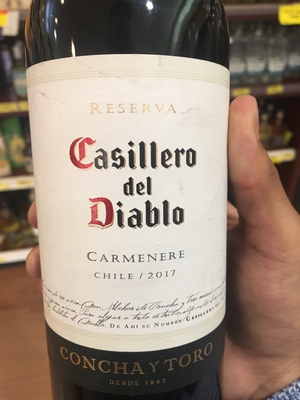casillero del diablo carmenere: (17, 3, 257, 400)
